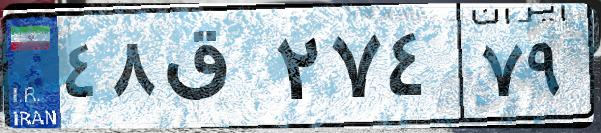2: (270, 28, 330, 110)
4: (385, 28, 445, 110), (57, 26, 110, 100)
7: (330, 28, 385, 110), (475, 38, 525, 113)
8: (110, 28, 158, 98)
9: (525, 38, 570, 115)
ق: (158, 20, 270, 120)
